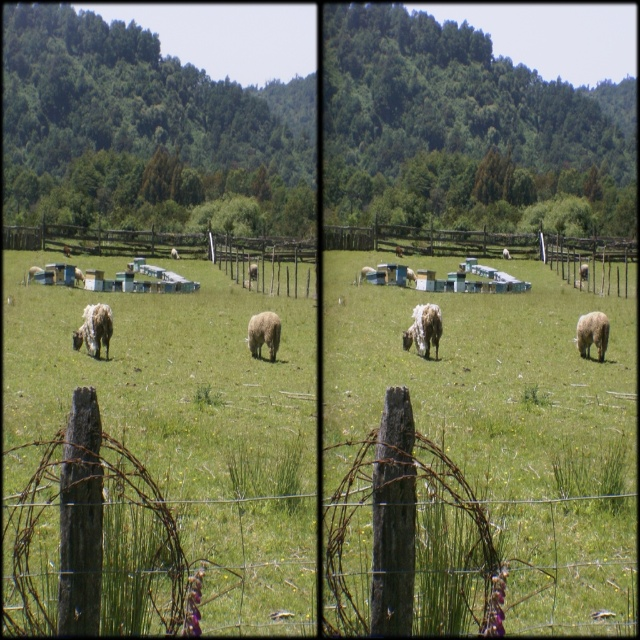Sheep: (402, 305, 443, 366), (71, 303, 113, 362), (575, 309, 609, 358), (250, 310, 281, 363)
